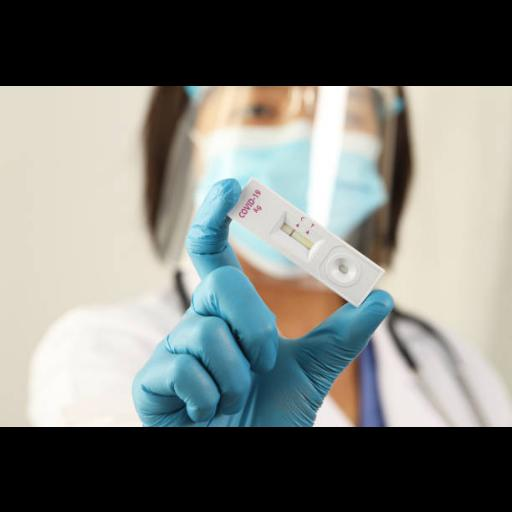Neg: (228, 176, 384, 307)
